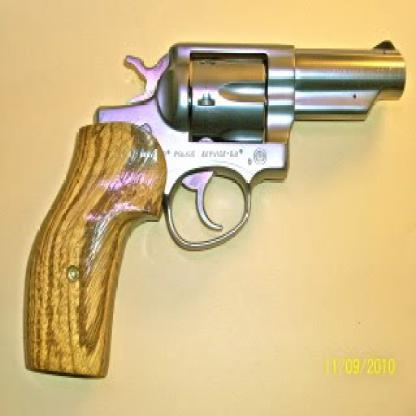pistol: (17, 38, 407, 378)
